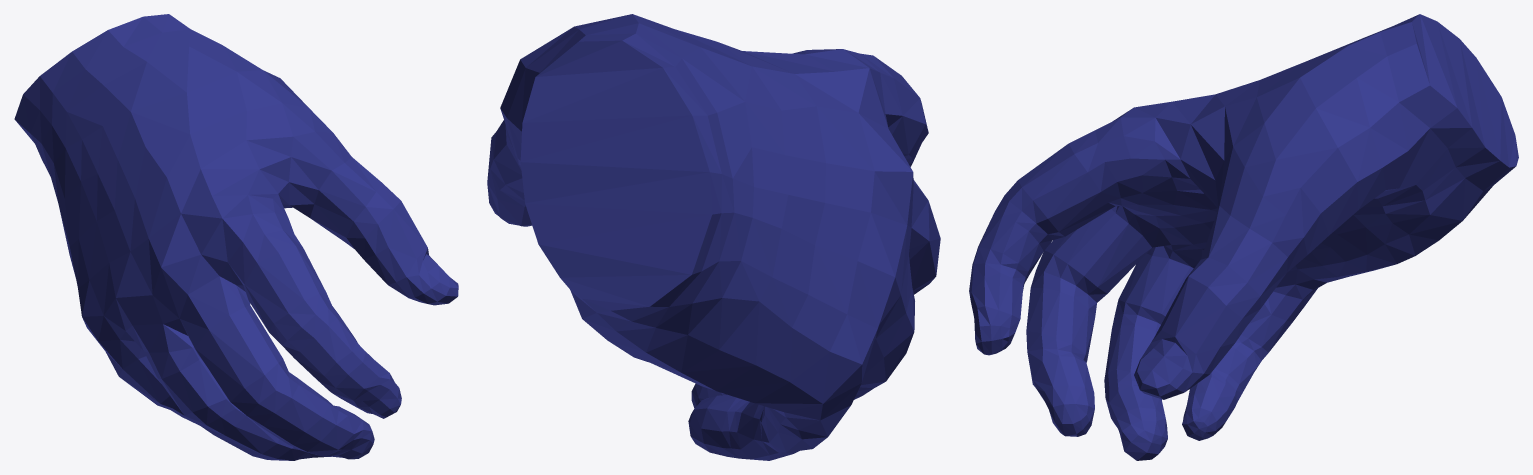
3 renders of one model, left to right at view 1: azimuth 30°, elevation 25°; view 2: azimuth 150°, elevation 25°; view 3: azimuth 270°, elevation 25°, orthographic. The views are drawn at different scales.
Size of the model in its own units: 0.1151 by 0.1276 by 0.1572.
